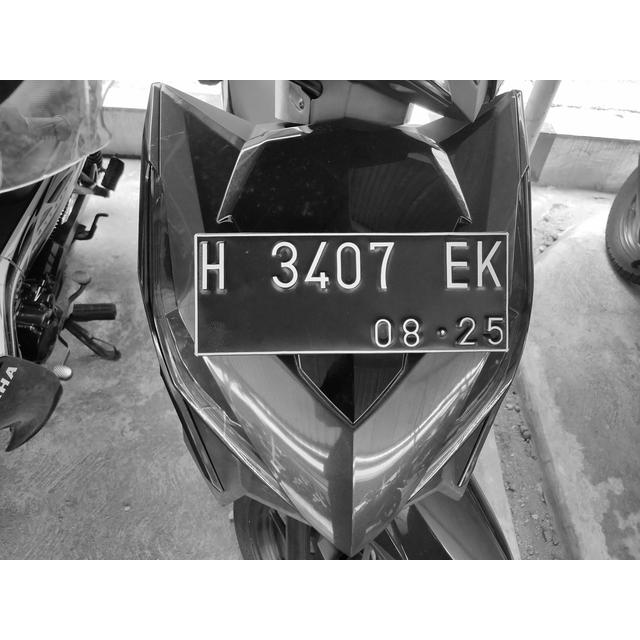license: (200, 238, 506, 350)
